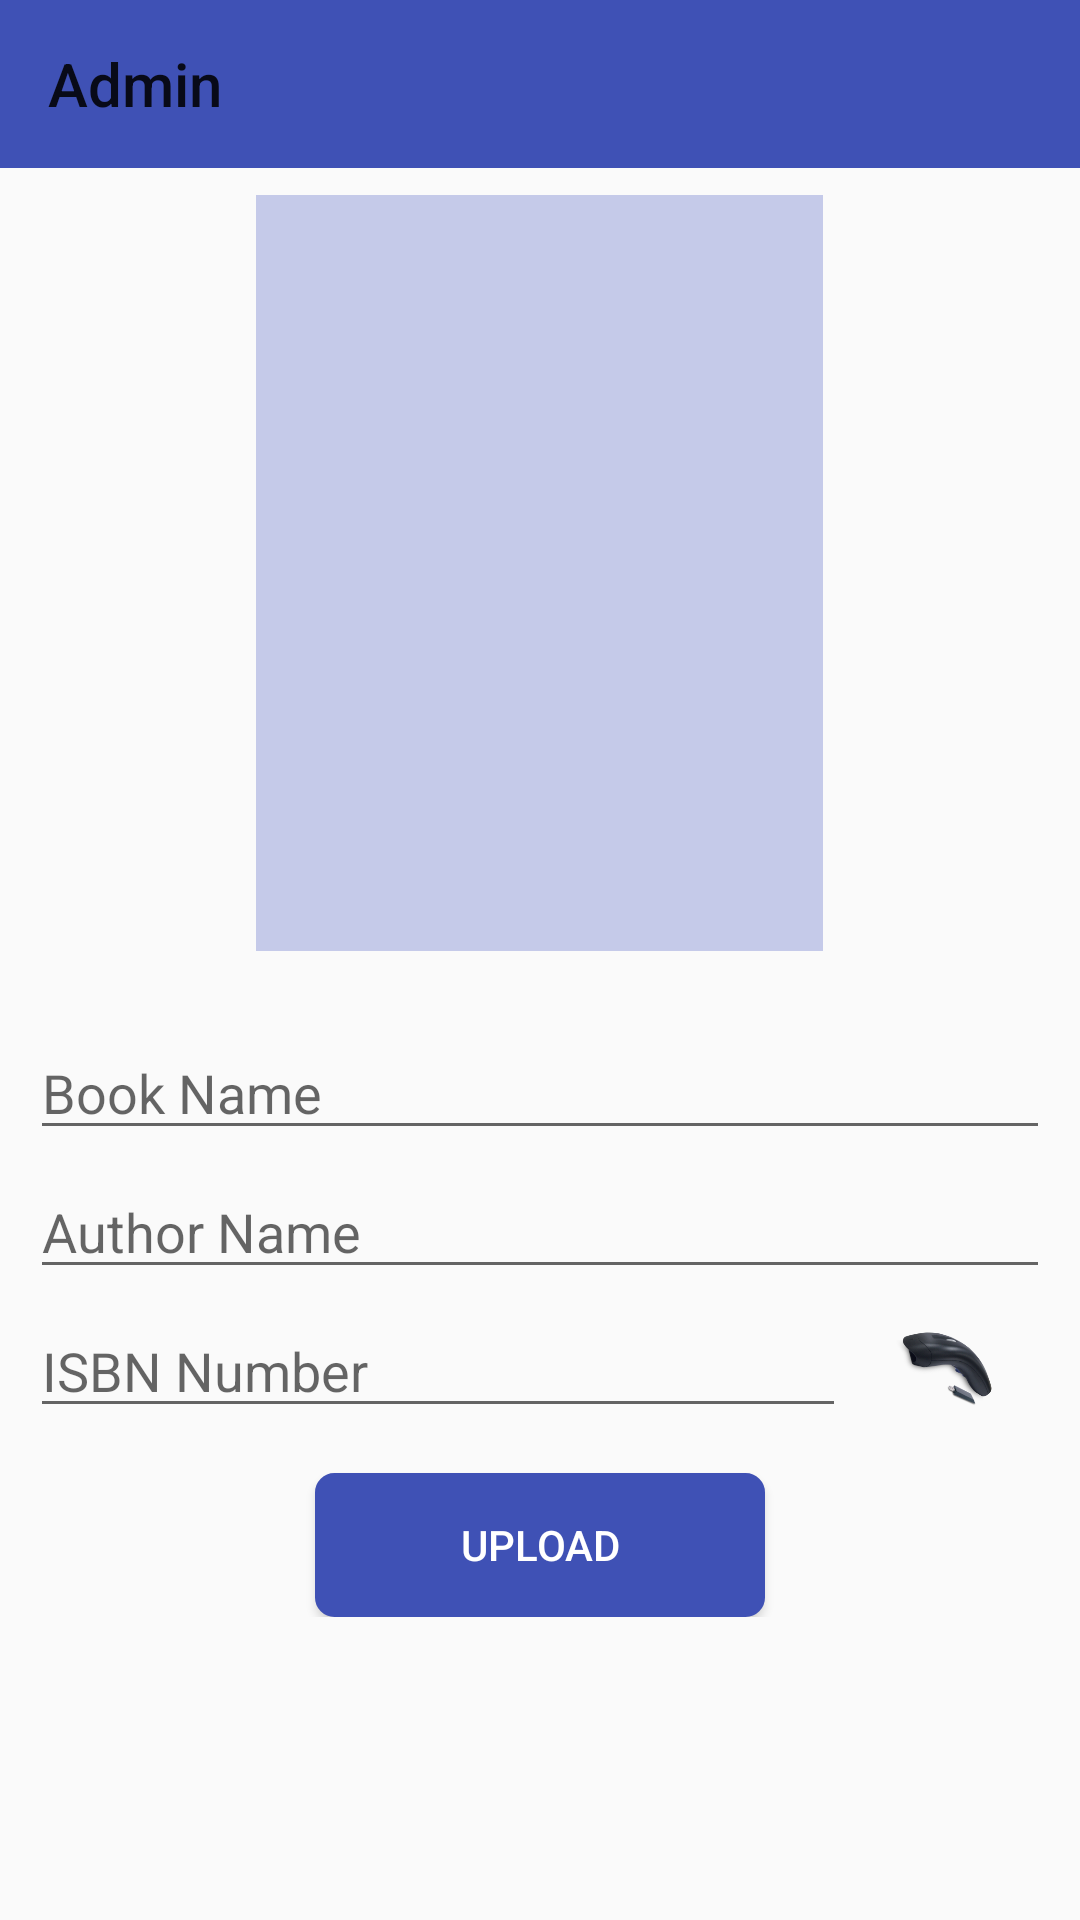

Icons on this 1080 x 1920 Android screen, each with its box as bbox=[x1, y1, x2, y2]:
scan: bbox=[903, 1332, 992, 1405]
